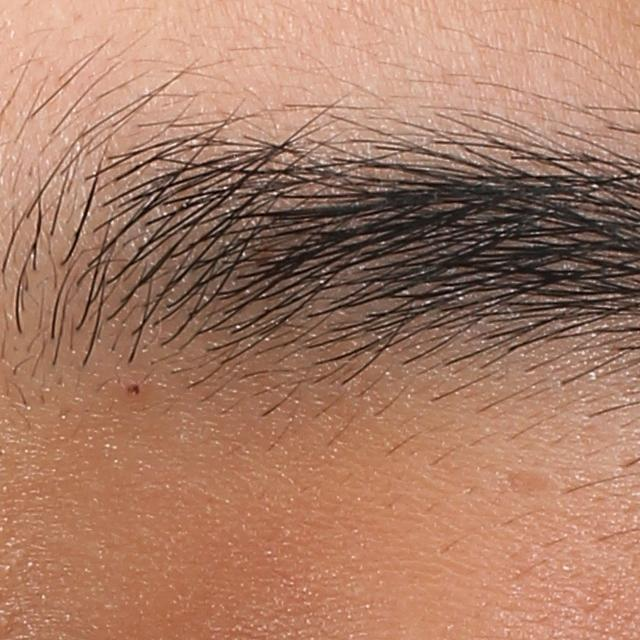atrophic_scar: (504, 471, 562, 500)
